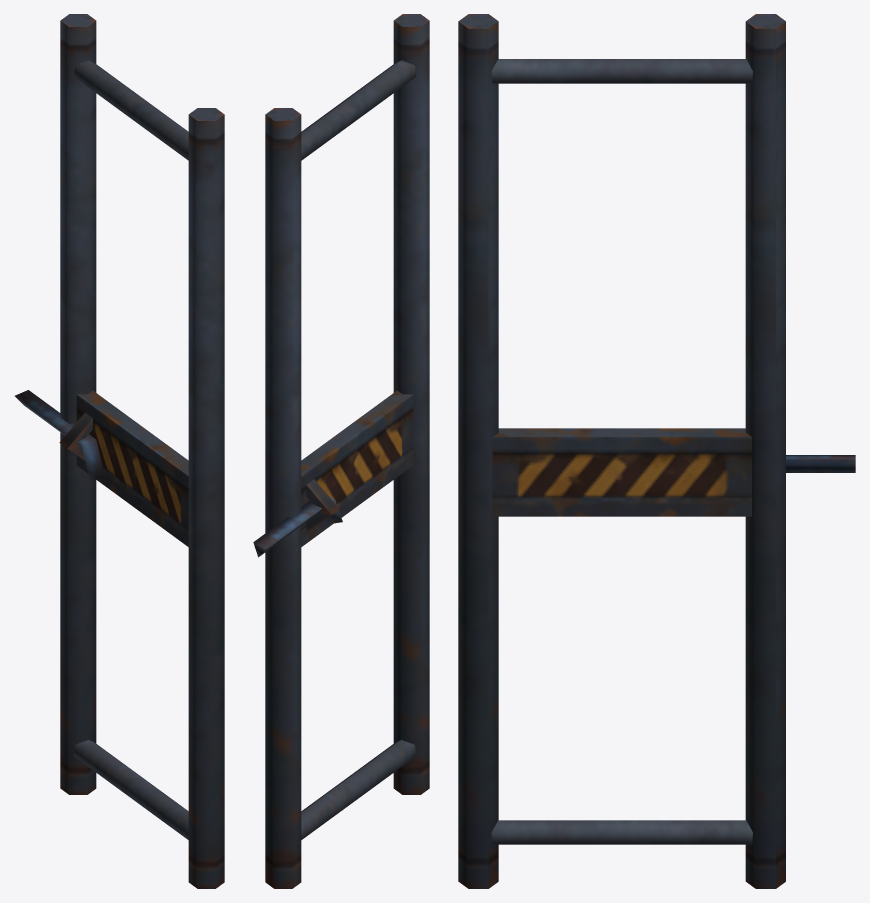
The model's file is WireMeshDoorR.FBX.
3 renders of one model, left to right at view 1: azimuth 30°, elevation 25°; view 2: azimuth 150°, elevation 25°; view 3: azimuth 270°, elevation 25°, orthographic. The views are drawn at different scales.
Visible parts, largest first — view 1: WireMeshDoorR; view 2: WireMeshDoorR; view 3: WireMeshDoorR.
Boxes of the visible parts, x1,y1,x2,y2 form: WireMeshDoorR: [15, 14, 224, 888]; WireMeshDoorR: [253, 14, 429, 888]; WireMeshDoorR: [458, 14, 855, 888].
Bounding box in the file's own units: 0.1825 × 2.84 × 1.19.
1 material, 1 textured.
